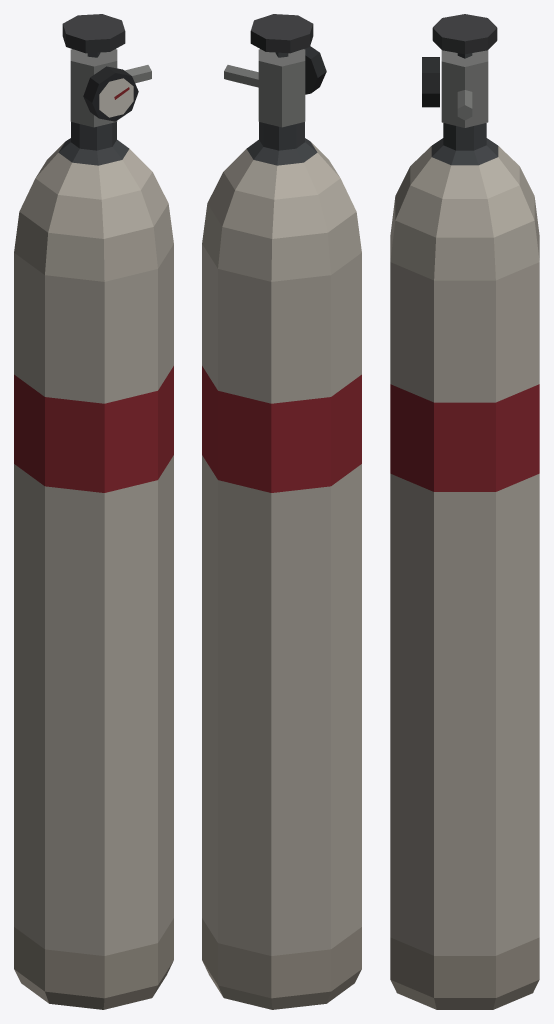
File: tl_prop_oxygen_cylinder_white_v01.glb
The picture shows the model from 3 angles, left to right: view 1: azimuth 30°, elevation 25°; view 2: azimuth 150°, elevation 25°; view 3: azimuth 270°, elevation 25°; orthographic projection.
Visible parts, largest first — view 1: tl_prop_oxygen_cylinder_white_v01; view 2: tl_prop_oxygen_cylinder_white_v01; view 3: tl_prop_oxygen_cylinder_white_v01.
Boxes of the visible parts, left/top/right/bottom form: tl_prop_oxygen_cylinder_white_v01: left=14, top=14, right=173, bottom=1009; tl_prop_oxygen_cylinder_white_v01: left=202, top=14, right=361, bottom=1009; tl_prop_oxygen_cylinder_white_v01: left=390, top=14, right=539, bottom=1009.
Size of the model in its own units: 0.1663 by 1.17 by 0.1663.
